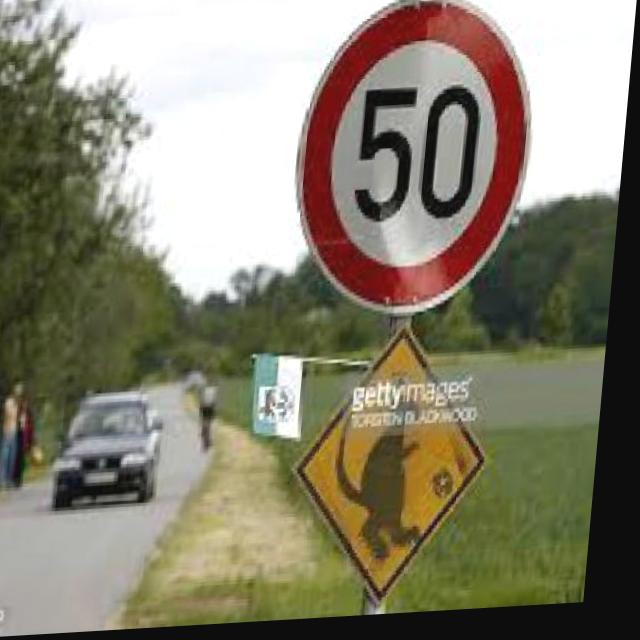Speed limit 50: (286, 1, 548, 328)
